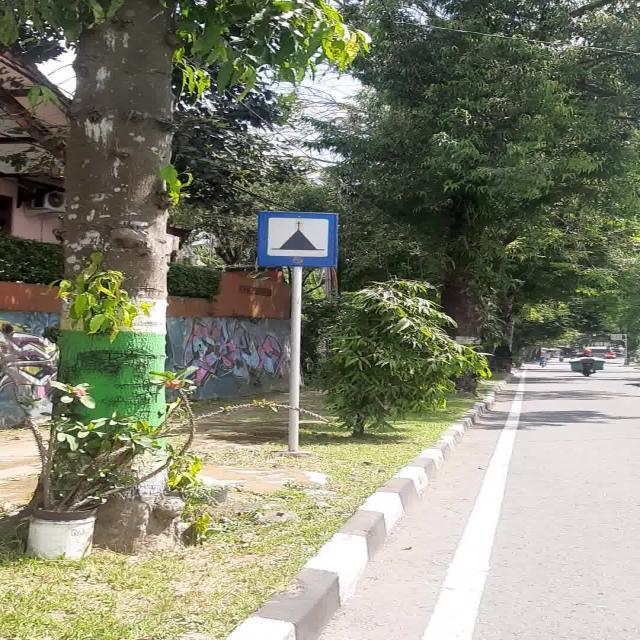Gereja: (258, 211, 338, 267)
